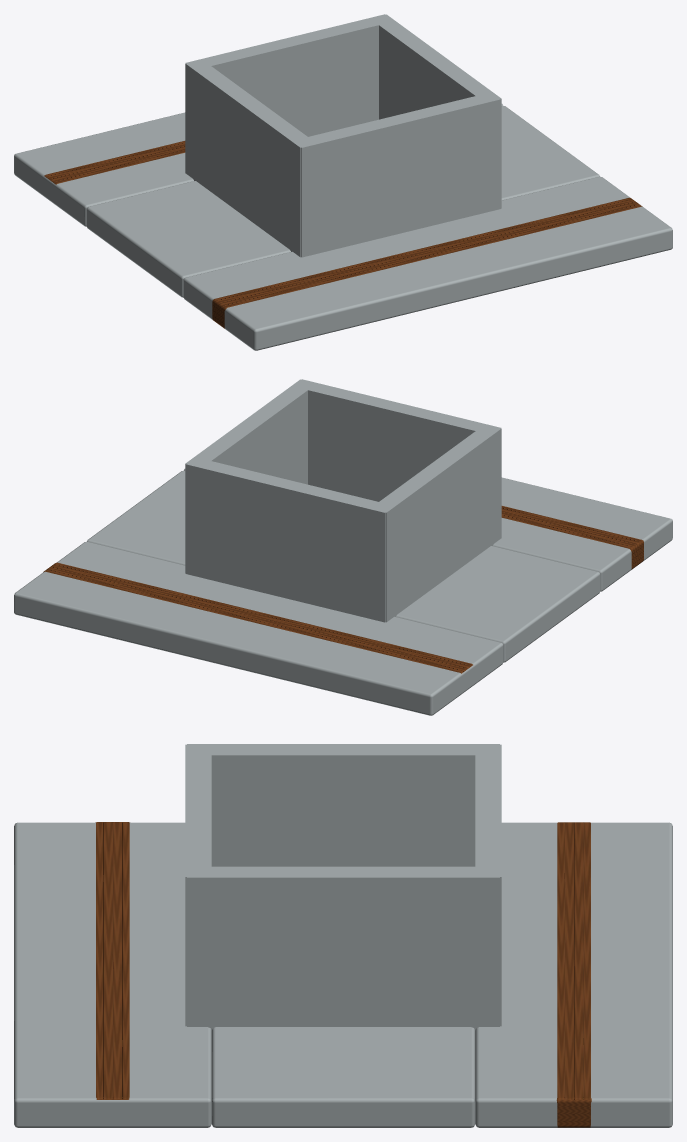
Rendered from bunker-shelter-construction-ceiling-access-bay-4c4a616f__23301.glb.
The picture shows the model from 3 angles, top to bottom: view 1: azimuth 30°, elevation 25°; view 2: azimuth 150°, elevation 25°; view 3: azimuth 270°, elevation 25°; orthographic projection. The views are drawn at different scales.
Parts seen in each view (by area): view 1: ceiling-access-bay; view 2: ceiling-access-bay; view 3: ceiling-access-bay.
Part boxes in pixels (box(x1,y1,x2,y2)): ceiling-access-bay: box(14, 14, 672, 350); ceiling-access-bay: box(14, 379, 672, 715); ceiling-access-bay: box(14, 744, 672, 1127).
Size of the model in its own units: 2 by 0.5999 by 2.
Materials: 2 (1 with a texture image).
